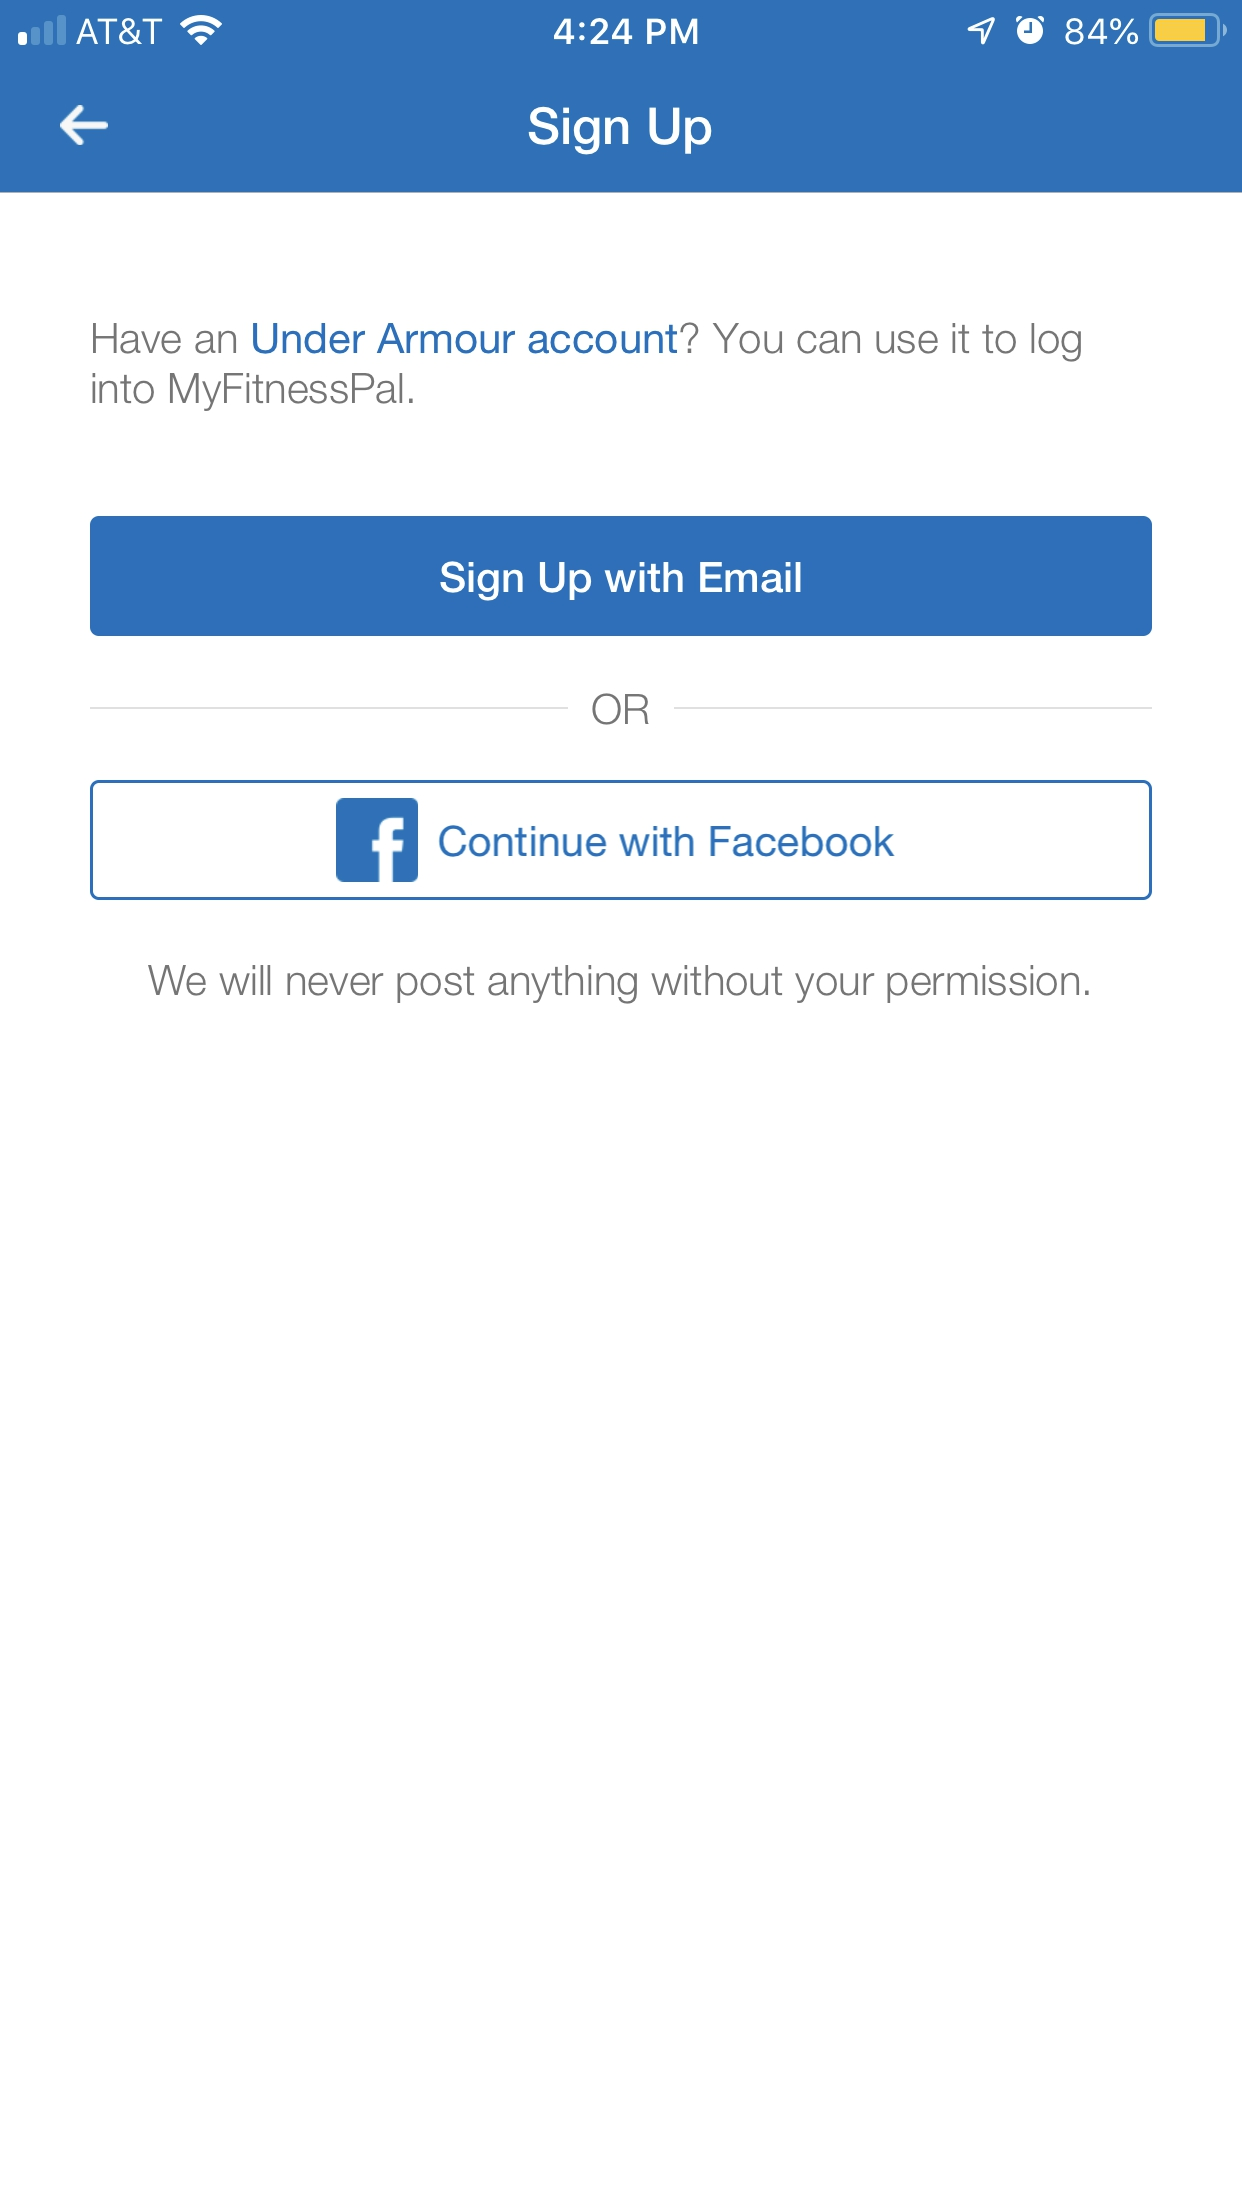Icon: (61, 105, 111, 147)
Text: (91, 323, 1081, 412), (149, 964, 1090, 1004), (528, 106, 713, 158), (591, 693, 651, 726)
TextButton: (89, 779, 1153, 901), (91, 516, 1153, 637)
UpperTaskBar: (2, 2, 1242, 49)
